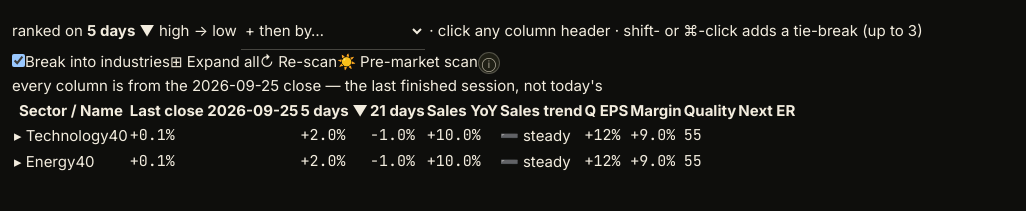
Test: additive clicks send then_by › the served plan numbers the headers; aria-sort sits on the primary only
Check: the button "▸ Technology" is shown, box 14,124 -> 109,148
Click the button "Q EPS": (606, 111) 584,99 -> 628,122
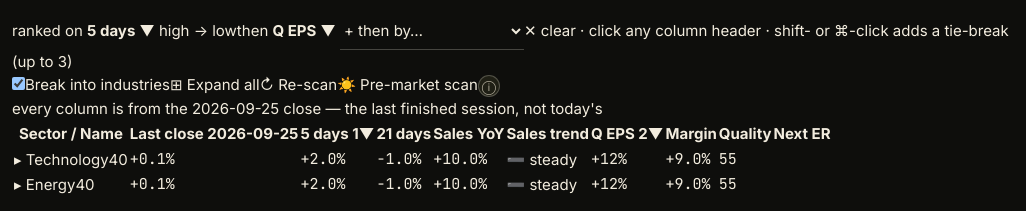
Check: the button "Q EPS 2▼" is shown, box 591,122 -> 664,146
Check: the button "5 days 1▼" is shown, box 300,122 -> 374,146
